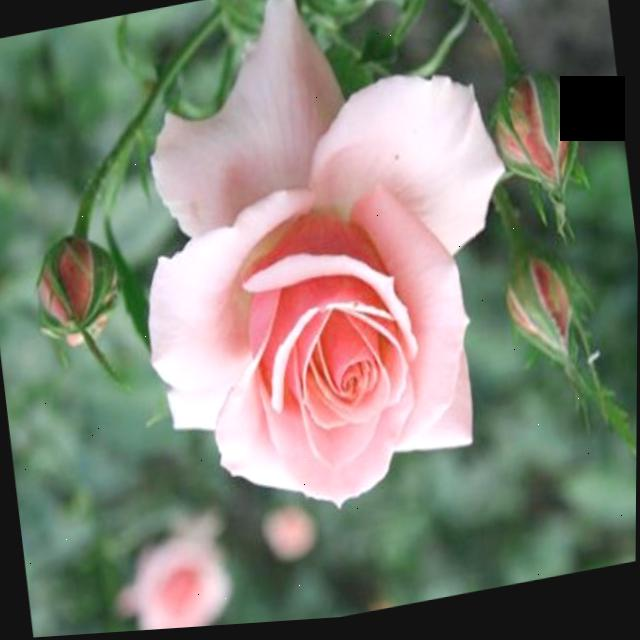rose: (91, 0, 533, 580)
